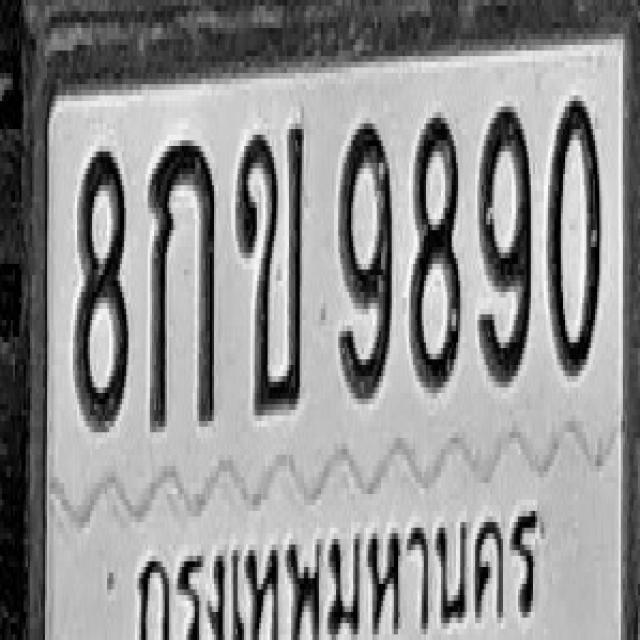0: (547, 93, 600, 373)
10GorGai: (149, 138, 215, 430)
11KhorKhai: (235, 123, 304, 410)
8: (74, 146, 127, 427), (409, 112, 460, 388)
9: (338, 118, 392, 398), (478, 101, 530, 382)
Bangkok: (131, 500, 550, 640)
